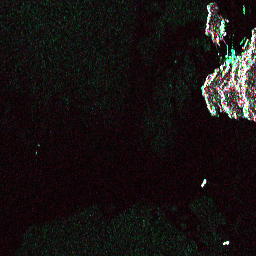ship: (198, 176, 209, 188), (221, 239, 230, 247)
